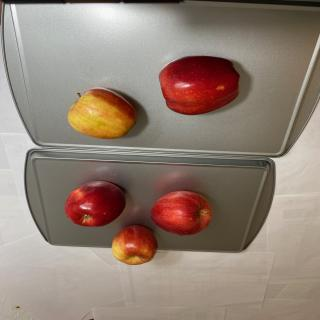Apple: (159, 55, 240, 115), (67, 87, 137, 139), (64, 180, 126, 227), (150, 190, 212, 236), (111, 224, 158, 265)
